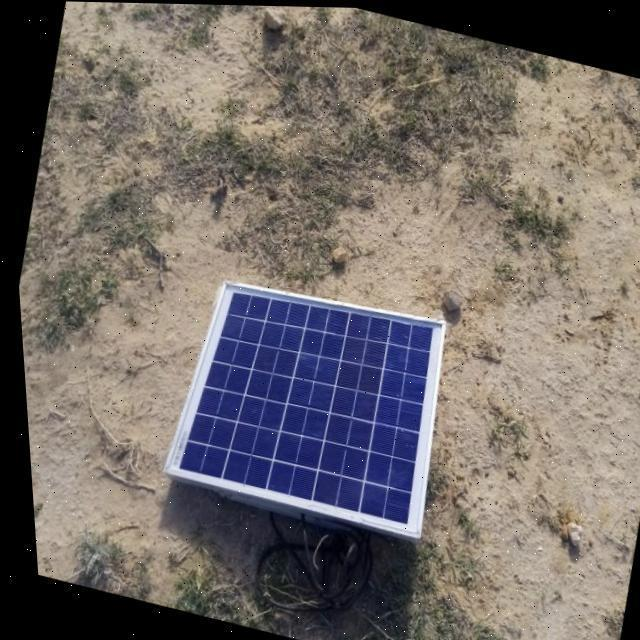Normal Solar Panel: (146, 260, 462, 538)
